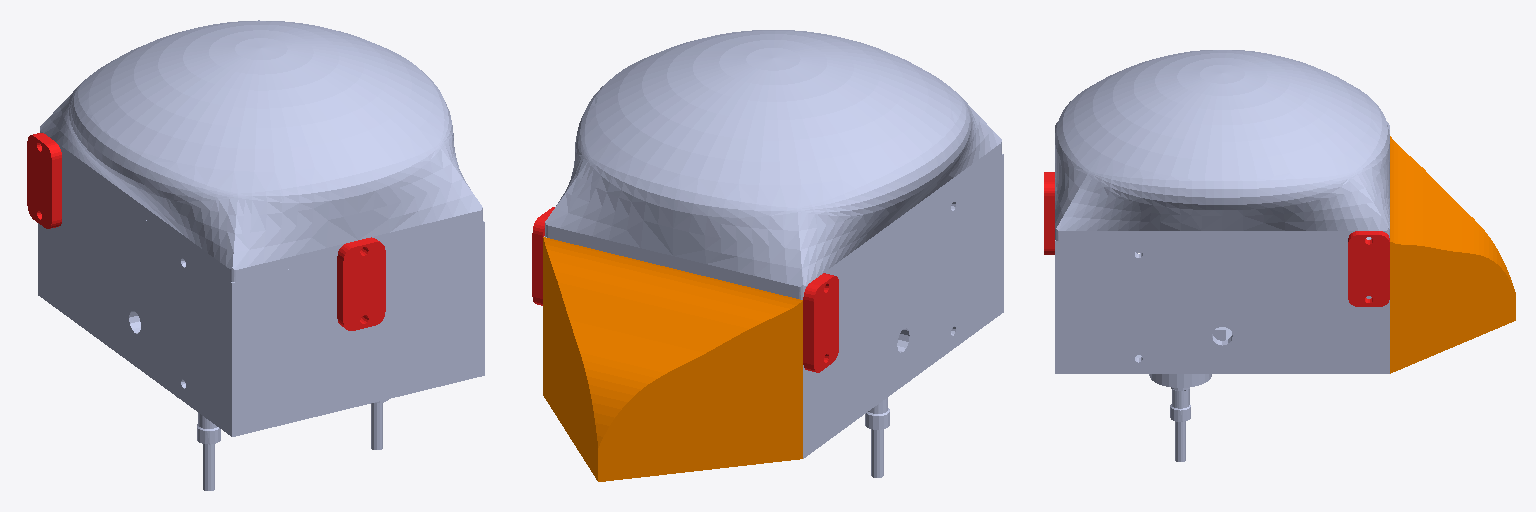
URDF robot description (robot_boat):
<?xml version="1.0" encoding="utf-8"?>
<robot name="robot_boat">

  <link name="caja">
    <inertial>
      <origin xyz="-0.00350655617226021 0.0057870557154398 0.100314646324909" rpy="0 0 0" />
      <mass value="0.315668074424316" />
      <inertia
        ixx="0.00106952247168509"
        ixy="-6.35663584540256E-08"
        ixz="4.48722793894617E-07"
        iyy="0.00147003359417461"
        iyz="1.732567854706E-06"
        izz="0.000700072373673693" />
    </inertial>
    <visual>
      <origin xyz="0 0 0" rpy="0 0 0" />
      <geometry>
        <mesh filename="package://robot_boat/meshes/caja.STL" />
      </geometry>
      <material name="azul_claro">
        <color rgba="0.792156862745098 0.819607843137255 0.933333333333333 1" />
      </material>
    </visual>
    <collision>
      <origin xyz="0 0 0" rpy="0 0 0" />
      <geometry>
        <mesh filename="package://robot_boat/meshes/caja.STL" />
      </geometry>
    </collision>
  </link>

  <link name="ganchos">
    <inertial>
      <origin xyz="-0.0508333333333334 -1.76145864720992E-05 -0.06" rpy="0 0 0" />
      <mass value="0.0107011061266654" />
      <inertia
        ixx="1.31036565577676E-06"
        ixy="1.52182167501141E-22"
        ixz="4.74293249589487E-24"
        iyy="3.76232518888044E-07"
        iyz="5.31604809467197E-23"
        izz="1.42091384800796E-06" />
    </inertial>
    <visual>
      <origin xyz="0 0 0" rpy="0 0 0" />
      <geometry>
        <mesh filename="package://robot_boat/meshes/ganchos.STL" />
      </geometry>
      <material name="rojo">
        <color rgba="1 0.168627450980392 0.168627450980392 1" />
      </material>
    </visual>
    <collision>
      <origin xyz="0 0 0" rpy="0 0 0" />
      <geometry>
        <mesh filename="package://robot_boat/meshes/ganchos.STL" />
      </geometry>
    </collision>
  </link>

  <joint name="ganchos" type="fixed">
    <origin xyz="0.056509 -0.03 0.039668" rpy="1.5708 0 1.5708" />
    <parent link="caja" />
    <child link="ganchos" />
    <axis xyz="0 0 0" />
  </joint>

  <link name="cabeza">
    <inertial>
      <origin xyz="-1.47210003906893E-05 0.0334212800408631 -1.71087868535286E-05" rpy="0 0 0" />
      <mass value="0.195566086436615" />
      <inertia
        ixx="0.000521416706885964"
        ixy="-3.28003379479109E-08"
        ixz="4.29670857435128E-08"
        iyy="0.000848517982242861"
        iyz="-6.74994053841756E-08"
        izz="0.000443795962264069" />
    </inertial>
    <visual>
      <origin xyz="0 0 0" rpy="0 0 0" />
      <geometry>
        <mesh filename="package://robot_boat/meshes/cabeza.STL" />
      </geometry>
      <material name="azul_claro">
        <color rgba="0.792156862745098 0.819607843137255 0.933333333333333 1" />
      </material>
    </visual>
    <collision>
      <origin xyz="0 0 0" rpy="0 0 0" />
      <geometry>
        <mesh filename="package://robot_boat/meshes/cabeza.STL" />
      </geometry>
    </collision>
  </link>

  <joint name="cabeza" type="fixed">
    <origin xyz="-0.07 0.01 -0.06" rpy="0 1.5707963267949 0" />
    <parent link="ganchos" />
    <child link="cabeza" />
    <axis xyz="0 0 0" />
  </joint>

  <link name="punta">
    <inertial>
      <origin xyz="3.27284758360044E-06 -0.00433760804571402 0.0273160015482659" rpy="0 0 0" />
      <mass value="0.0716405181094412" />
      <inertia
        ixx="5.44743781091978E-05"
        ixy="1.86774753169867E-09"
        ixz="6.76801340593279E-09"
        iyy="9.58237376978415E-05"
        iyz="-6.17934926455551E-06"
        izz="0.000101029420324114" />
    </inertial>
    <visual>
      <origin xyz="0 0 0" rpy="0 0 0" />
      <geometry>
        <mesh filename="package://robot_boat/meshes/punta.STL" />
      </geometry>
      <material name="naranja">
        <color rgba="1 0.549019607843137 0 1" />
      </material>
    </visual>
    <collision>
      <origin xyz="0 0 0" rpy="0 0 0" />
      <geometry>
        <mesh filename="package://robot_boat/meshes/punta.STL" />
      </geometry>
    </collision>
  </link>

  <joint name="punta" type="fixed">
    <origin xyz="-0.0034915 0.02 0.018168" rpy="1.5708 0 0" />
    <parent link="caja" />
    <child link="punta" />
    <axis xyz="0 0 0" />
  </joint>


  <link name="motor1">
    <inertial>
      <origin xyz="0.0248078639783107 0 0" rpy="0 0 0" />
      <mass value="0.0338272475621472" />
      <inertia
        ixx="3.59775886940148E-06"
        ixy="-8.70714672756417E-24"
        ixz="-9.65307491393635E-22"
        iyy="1.02720341448678E-05"
        iyz="0"
        izz="1.02720341448678E-05" />
    </inertial>
    <visual>
      <origin xyz="0 0 0" rpy="0 0 0" />
      <geometry>
        <mesh filename="package://robot_boat/meshes/motor1.STL" />
      </geometry>
      <material name="gris_claro">
        <color rgba="0.796078431372549 0.823529411764706 0.937254901960784 1" />
      </material>
    </visual>
    <collision>
      <origin xyz="90 0 0" rpy="0 0 0" />
      <geometry>
        <mesh filename="package://robot_boat/meshes/motor1.STL" />
      </geometry>
    </collision>
  </link>

  <joint name="motor1" type="continuous">
    <origin xyz="-0.04 -0.12 0.02" rpy="0 1.5708 0" />
    <parent link="caja" />
    <child link="motor1" />
    <axis xyz="1 0 0" />
    <limit effort="10.0" velocity="10.0" />
    <dynamics damping="0.1" friction="0.05" />
  </joint>


  <link name="motor2">
    <inertial>
      <origin xyz="0.0248078639783108 -6.93889390390723E-18 0" rpy="0 0 0" />
      <mass value="0.0338272475621472" />
      <inertia
        ixx="3.59775886940148E-06"
        ixy="3.03672443546408E-22"
        ixz="-1.21326837735656E-21"
        iyy="1.02720341448678E-05"
        iyz="0"
        izz="1.02720341448678E-05" />
    </inertial>
    <visual>
      <origin xyz="0 0 0" rpy="0 0 0" />
      <geometry>
        <mesh filename="package://robot_boat/meshes/motor2.STL" />
      </geometry>
      <material name="gris_claro">
        <color rgba="0.796078431372549 0.823529411764706 0.937254901960784 1" />
      </material>
    </visual>
    <collision>
      <origin xyz="0 0 0" rpy="0 0 0" />
      <geometry>
        <mesh filename="package://robot_boat/meshes/motor2.STL" />
      </geometry>
    </collision>
  </link>

  <joint name="motor2" type="continuous">
    <origin xyz="0.04 -0.12 0.02" rpy="0 1.5708 0" />
    <parent link="caja" />
    <child link="motor2" />
    <axis xyz="1 0 0" />
    <limit effort="10.0" velocity="10.0" />
    <dynamics damping="0.1" friction="0.05" />
  </joint>

  <gazebo reference="caja">
    <material>Gazebo/Blue</material>
    <kp>1000000.0</kp>
    <kd>100.0</kd>
  </gazebo>
  
  <gazebo reference="ganchos">
    <material>Gazebo/Red</material>
    <kp>1000000.0</kp>
    <kd>100.0</kd>
  </gazebo>
  
  <gazebo reference="cabeza">
    <material>Gazebo/Blue</material>
    <kp>1000000.0</kp>
    <kd>100.0</kd>
  </gazebo>
  
  <gazebo reference="punta">
    <material>Gazebo/Orange</material>
    <kp>1000000.0</kp>
    <kd>100.0</kd>
  </gazebo>
  
  <gazebo reference="motor1">
    <material>Gazebo/Grey</material>
    <kp>1000000.0</kp>
    <kd>100.0</kd>
  </gazebo>
  
  <gazebo reference="motor2">
    <material>Gazebo/Grey</material>
    <kp>1000000.0</kp>
    <kd>100.0</kd>
  </gazebo>

  <!-- Gazebo plugins -->
  <gazebo>
    <plugin name="gazebo_ros_control" filename="libgazebo_ros_control.so">
      <robot_namespace>/</robot_namespace>
    </plugin>
  </gazebo>

</robot>

--- What the picture shows (computed from the rendered views, not written in the file) ---
Views: 3 orthographic renders of the robot side by side, from view 1: azimuth 30°, elevation 25°; view 2: azimuth 150°, elevation 25°; view 3: azimuth 270°, elevation 25°.
Robot: robot_boat — 6 links, 5 joints (2 continuous, 3 fixed); root link caja; default pose: all joints at 0.
Links seen in each view (by area): view 1: cabeza, caja, ganchos, motor1, motor2; view 2: cabeza, punta, caja, ganchos, motor1; view 3: cabeza, caja, punta, ganchos, motor2.
Boxes of the visible links, bbox=[...] form: cabeza: bbox=[40, 20, 482, 281]; caja: bbox=[38, 159, 484, 436]; ganchos: bbox=[27, 133, 385, 330]; motor1: bbox=[177, 397, 220, 490]; motor2: bbox=[371, 399, 388, 449]; cabeza: bbox=[545, 30, 1001, 299]; punta: bbox=[543, 237, 802, 481]; caja: bbox=[544, 154, 1003, 458]; ganchos: bbox=[532, 207, 838, 372]; motor1: bbox=[865, 381, 909, 477]; cabeza: bbox=[1055, 50, 1389, 240]; caja: bbox=[1055, 237, 1389, 373]; punta: bbox=[1390, 136, 1515, 373]; ganchos: bbox=[1044, 172, 1389, 306]; motor2: bbox=[1149, 374, 1211, 461].
Bounding box of the posed robot: 0.1517 × 0.225 × 0.1837 m (x, y, z).
6 mesh visuals loaded from 6 distinct referenced files (6 binary STL).
